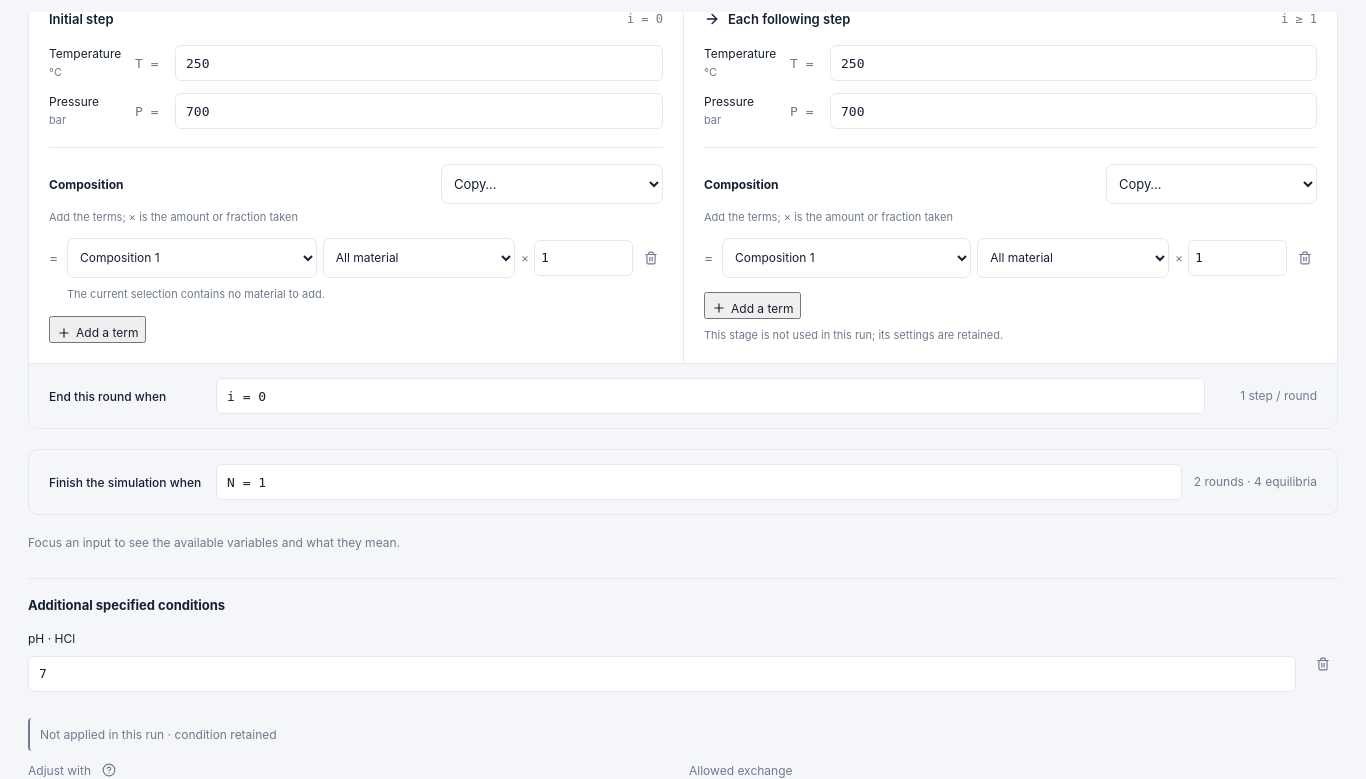
updates coverage after an end-condition edit and translates it without changing the draft
This screenshot has width=1366, height=779.
(page scrolled)
Expected: the text "Not applied in this run · condition retained" is shown, [28, 718, 1338, 751]
Replace the text in the field named "later end condition" with "i = 2" at (710, 396), box [216, 378, 1205, 414]
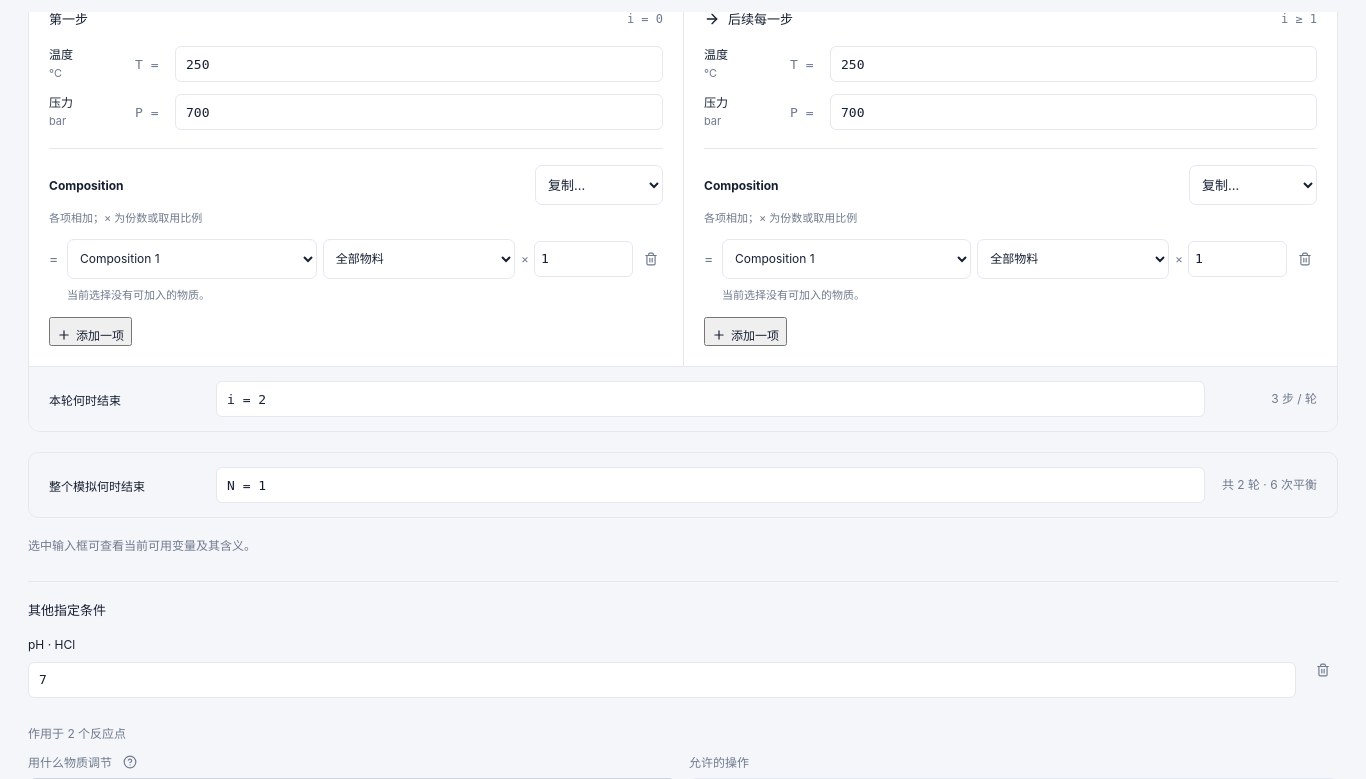
Now the text "作用于 2 个反应点" is shown, box [28, 726, 126, 741]
Replace the text in the field named "later 结束条件" with "i =" at (710, 399), box [216, 381, 1205, 417]
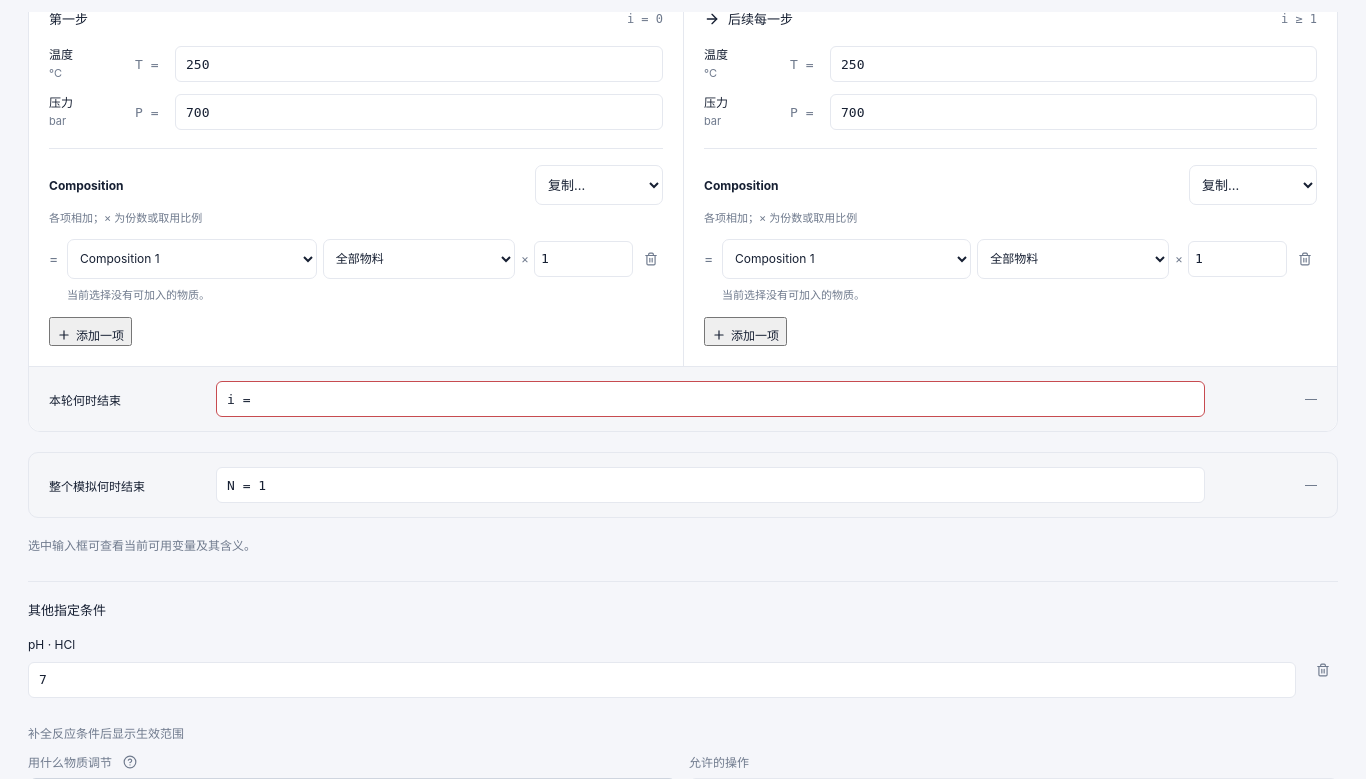
Now the text "补全反应条件后显示生效范围" is shown, box [28, 726, 184, 741]
